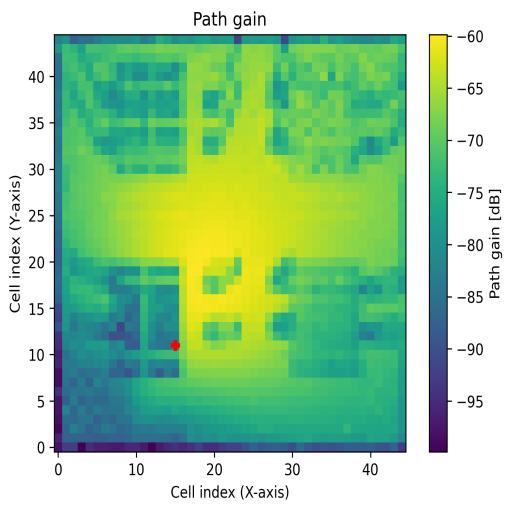Concrete: (288, 63, 366, 174)
Glass: (116, 63, 188, 173)
Metal: (289, 267, 360, 379)
Wood: (109, 267, 179, 379)
